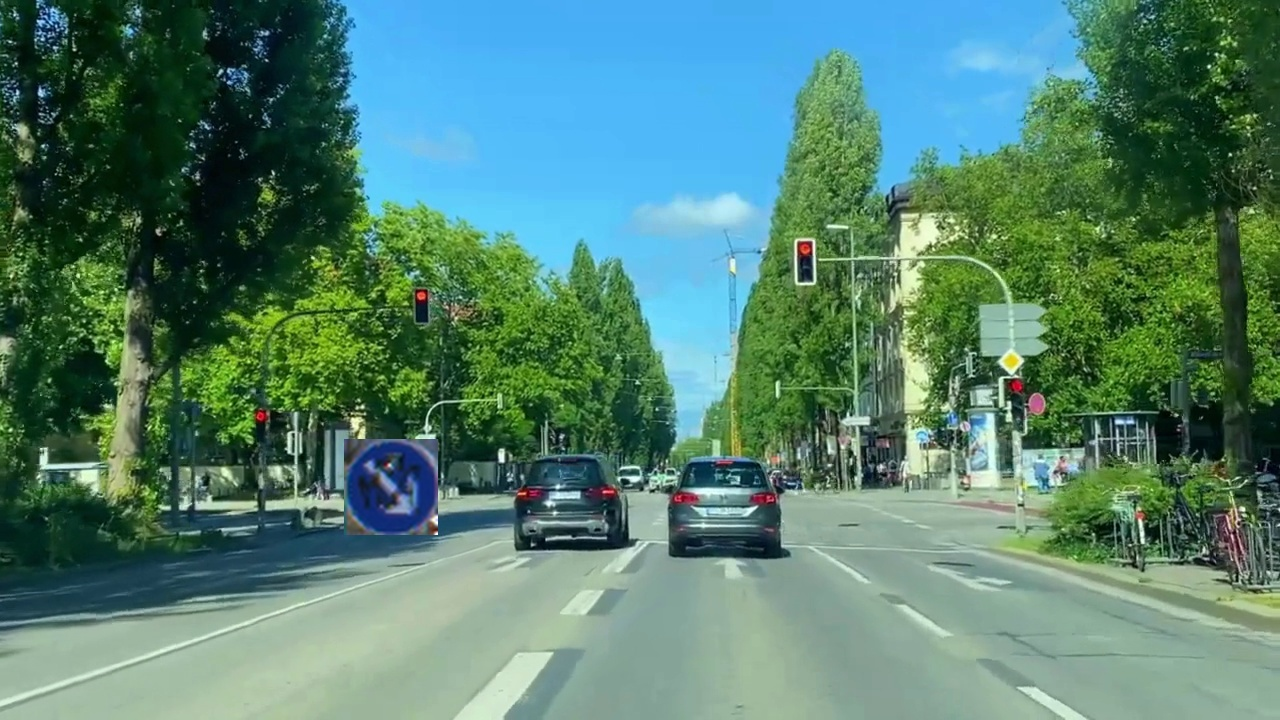Keep right: (344, 439, 438, 535)
